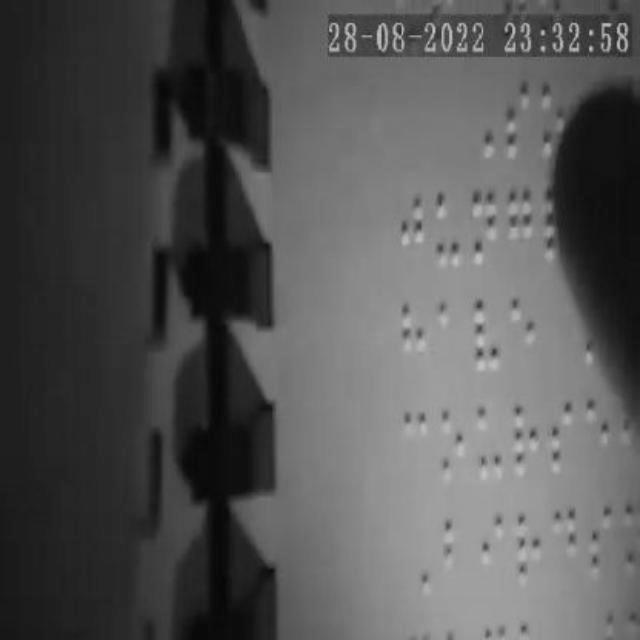braiile: (498, 71, 538, 167), (514, 506, 552, 596), (430, 185, 466, 278), (468, 183, 502, 281), (434, 292, 470, 384), (434, 399, 470, 489), (586, 500, 622, 590), (439, 505, 475, 595), (475, 400, 511, 488), (504, 183, 538, 275), (510, 294, 542, 390), (398, 399, 432, 489), (394, 187, 428, 276), (549, 394, 579, 490), (550, 503, 582, 593), (396, 292, 428, 381), (513, 393, 545, 482), (472, 293, 502, 383), (478, 510, 508, 596), (583, 398, 613, 478)
